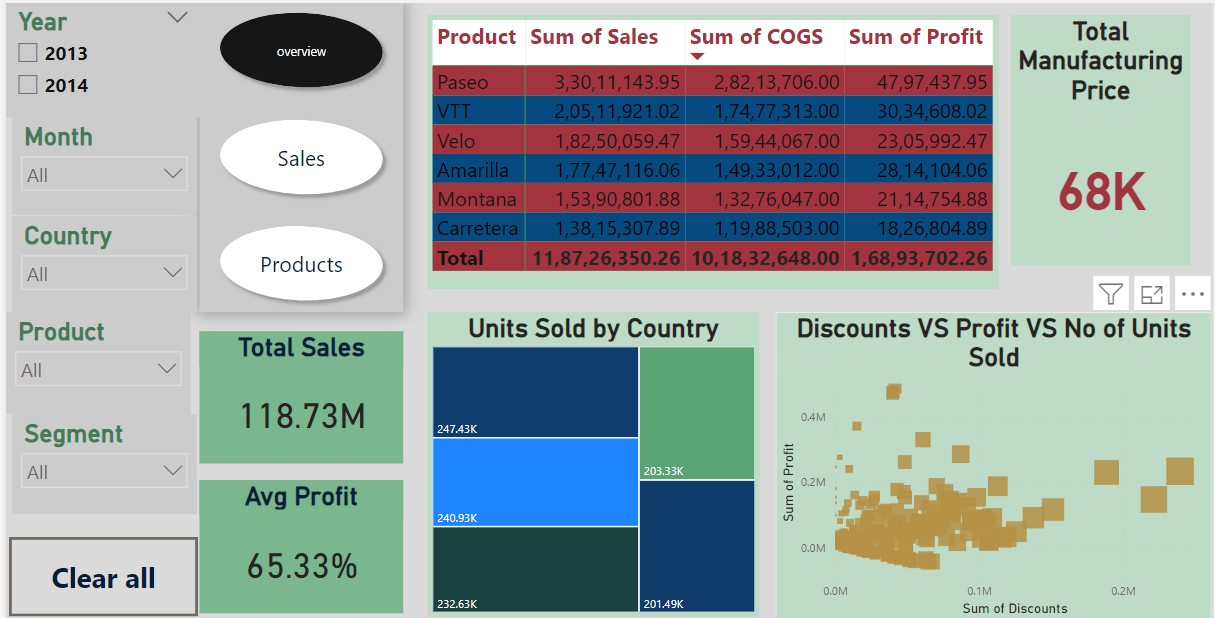

Layout of this report page (visuals, bound fields, positions):
{"tool":"powerbi","page":{"name":"overview","canvas":[1280,720],"ordinal":0},"visuals":[{"type":"textbox","box":[0,0,1280.4,55.7],"z":0},{"type":"pageNavigator","box":[205.2,55.7,216.3,329.3],"z":1000},{"type":"slicer","fields":{"Values":["financials.Year"]},"box":[0,55.8,205.9,123.1],"z":2000},{"type":"slicer","fields":{"Values":["financials.Month Name"]},"box":[5.8,178.9,196.2,103.9],"z":3000},{"type":"slicer","fields":{"Values":["financials.Country"]},"box":[5.8,282.8,196.2,102],"z":4000},{"type":"slicer","fields":{"Values":["financials.Product"]},"box":[0,384.8,196.2,107.7],"z":5000},{"type":"slicer","fields":{"Values":["financials.Segment"]},"box":[5.8,492.5,196.2,105.8],"z":6000},{"type":"card","title":"Avg Profit","fields":{"Values":["Avg(financials.% Of Profit)"]},"box":[205.2,563.1,216.3,141.6],"z":7000},{"type":"card","title":"Total Sales","fields":{"Values":["Sum(financials. Sales)"]},"box":[205.2,405.6,216.3,140],"z":8000},{"type":"actionButton","box":[3.2,623.5,200.4,84.3],"z":9000},{"type":"pivotTable","fields":{"Rows":["financials.Product"],"Values":["Sum(financials. Sales)","Sum(financials.COGS)","Sum(financials.Profit)"]},"box":[446.3,69.3,606,290.5],"z":10000},{"type":"card","title":"Total Manufacturing Price","fields":{"Values":["Sum(financials.Manufacturing Price)"]},"box":[1065.8,69.3,190.5,265.5],"z":11000},{"type":"scatterChart","title":"Discounts VS Profit VS No of Units Sold ","fields":{"X":["Sum(financials.Discounts)"],"Y":["Sum(financials.Profit)"],"Size":["Sum(financials.Discounts)"],"Category":["financials.Units Sold"]},"box":[815.7,384.8,463.7,327.1],"z":12000},{"type":"treemap","title":" Units Sold by Country","fields":{"Values":["Sum(financials.Units Sold)"],"Group":["financials.Country"]},"box":[446.3,384.8,352.1,323.2],"z":13000}]}

Visuals, with their boxes on the page's 1280x720 design canvas (x1, y1, x2, y2). These are canvas units, not pixel positions in the 1215x618 screenshot, which may show the page scaled, cropped or inside an application window:
textbox: left=0, top=0, right=1280, bottom=56
pageNavigator: left=205, top=56, right=422, bottom=385
slicer - financials.Year: left=0, top=56, right=206, bottom=179
slicer - financials.Month Name: left=6, top=179, right=202, bottom=283
slicer - financials.Country: left=6, top=283, right=202, bottom=385
slicer - financials.Product: left=0, top=385, right=196, bottom=492
slicer - financials.Segment: left=6, top=492, right=202, bottom=598
"Avg Profit" card: left=205, top=563, right=422, bottom=705
"Total Sales" card: left=205, top=406, right=422, bottom=546
actionButton: left=3, top=624, right=204, bottom=708
pivotTable - financials.Product x Sum(financials. Sales): left=446, top=69, right=1052, bottom=360
"Total Manufacturing Price" card: left=1066, top=69, right=1256, bottom=335
"Discounts VS Profit VS No of Units Sold " scatterChart: left=816, top=385, right=1279, bottom=712
" Units Sold by Country" treemap: left=446, top=385, right=798, bottom=708
